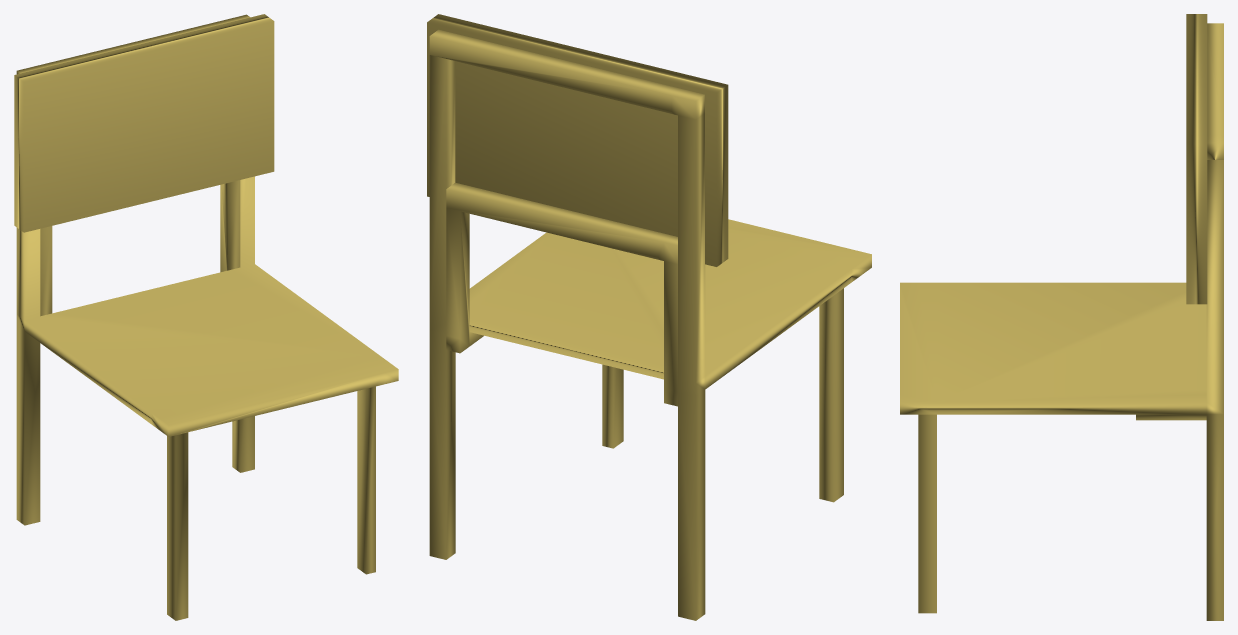
The model's file is Classroom Chair.fbx.
The picture shows the model from 3 angles, left to right: view 1: azimuth 30°, elevation 25°; view 2: azimuth 150°, elevation 25°; view 3: azimuth 270°, elevation 25°; orthographic projection. The views are drawn at different scales.
Visible parts, largest first — view 1: Chair; view 2: Chair; view 3: Chair.
Boxes of the visible parts, x1,y1,x2,y2 form: Chair: (14, 14, 398, 620); Chair: (427, 14, 871, 620); Chair: (900, 14, 1223, 620).
Bounding box in the file's own units: 21.71 × 37.53 × 22.84.
